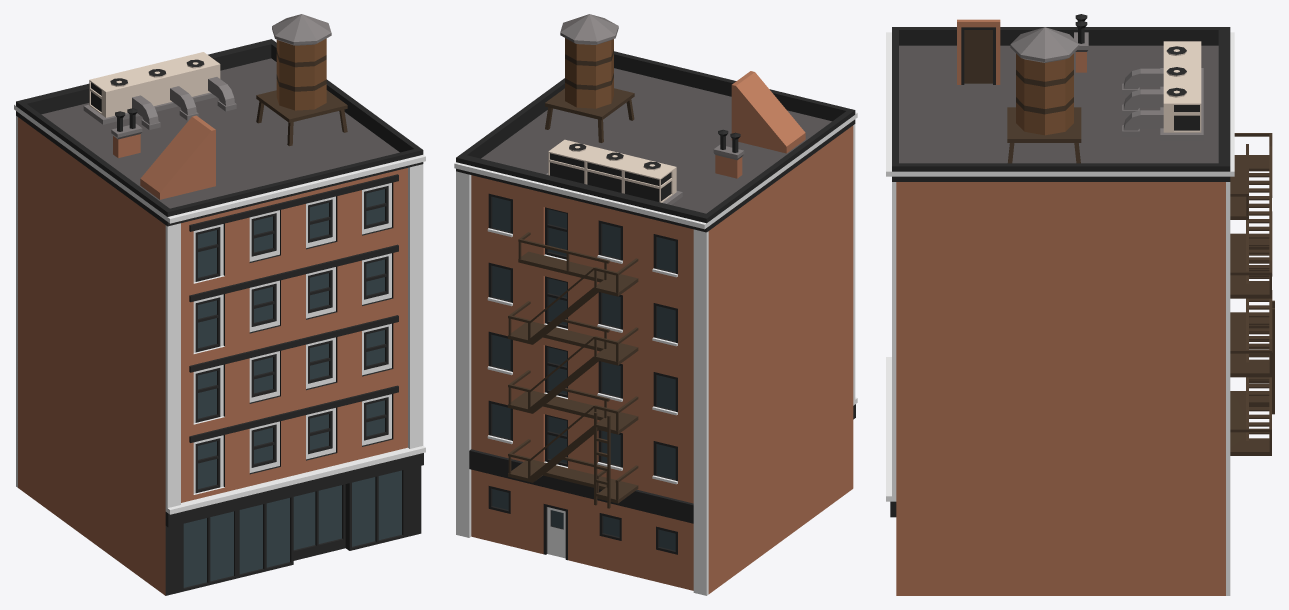
The model's file is buildings_building-block-4floor-back.fbx.
3 renders of one model, left to right at view 1: azimuth 30°, elevation 25°; view 2: azimuth 150°, elevation 25°; view 3: azimuth 270°, elevation 25°, orthographic. The views are drawn at different scales.
Parts seen in each view (by area): view 1: buildings_building_block_4floor_back; view 2: buildings_building_block_4floor_back; view 3: buildings_building_block_4floor_back.
Boxes of the visible parts, left/top/right/bottom form: buildings_building_block_4floor_back: left=14, top=14, right=425, bottom=595; buildings_building_block_4floor_back: left=454, top=14, right=857, bottom=595; buildings_building_block_4floor_back: left=886, top=14, right=1274, bottom=595.
Size of the model in its own units: 111 by 200 by 130.
